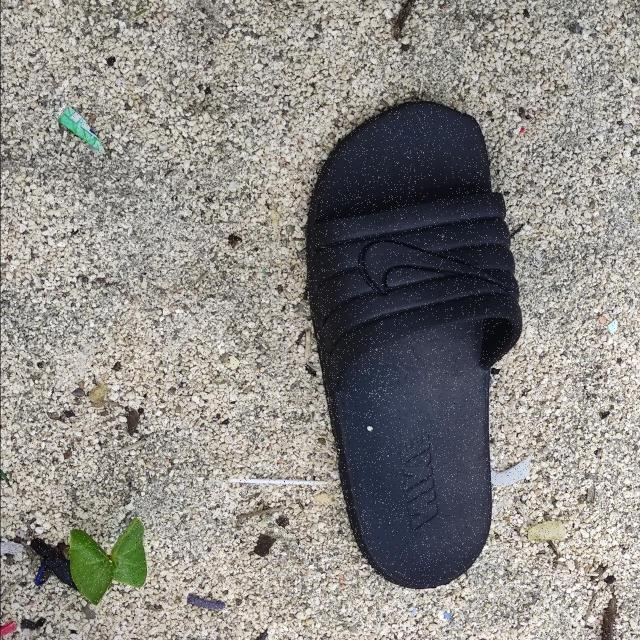plastic_waste: (57, 108, 104, 157)
rubber_waste: (307, 101, 523, 591)
